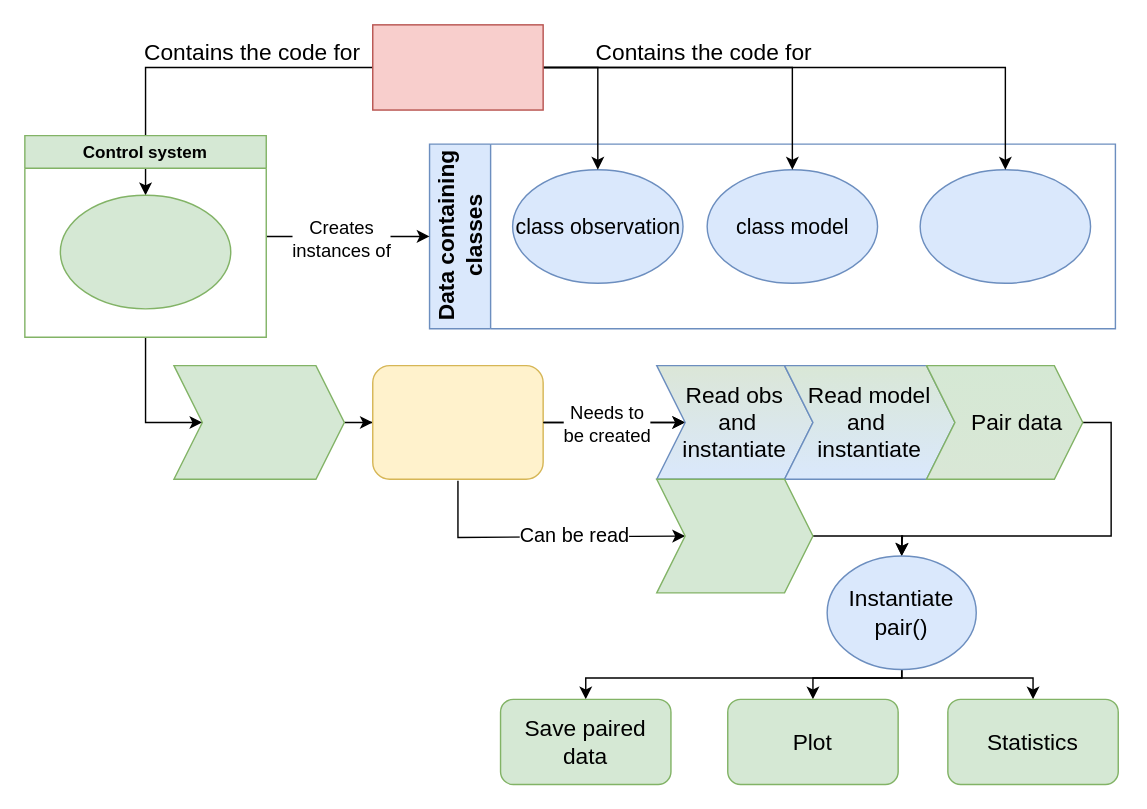
The diagram is 1147 pixels wide and 809 high, and some of its shapes have lost their labels. Each missing label, with the box of its shape:
class analysis: (59, 194, 231, 309)
class pair: (919, 168, 1091, 283)
Does the paired data need to be created or can it be read?: (371, 364, 543, 479)
driver.py: (371, 23, 543, 110)
Read paired data: (655, 478, 813, 593)
Reads input YAML file: (173, 364, 344, 479)
